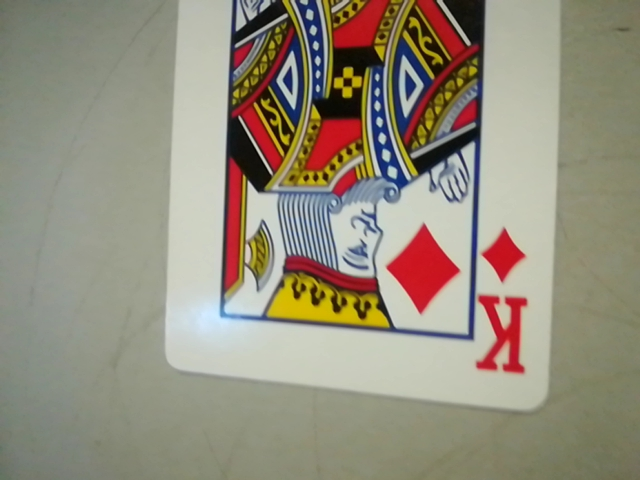fk k: (466, 223, 541, 385)
